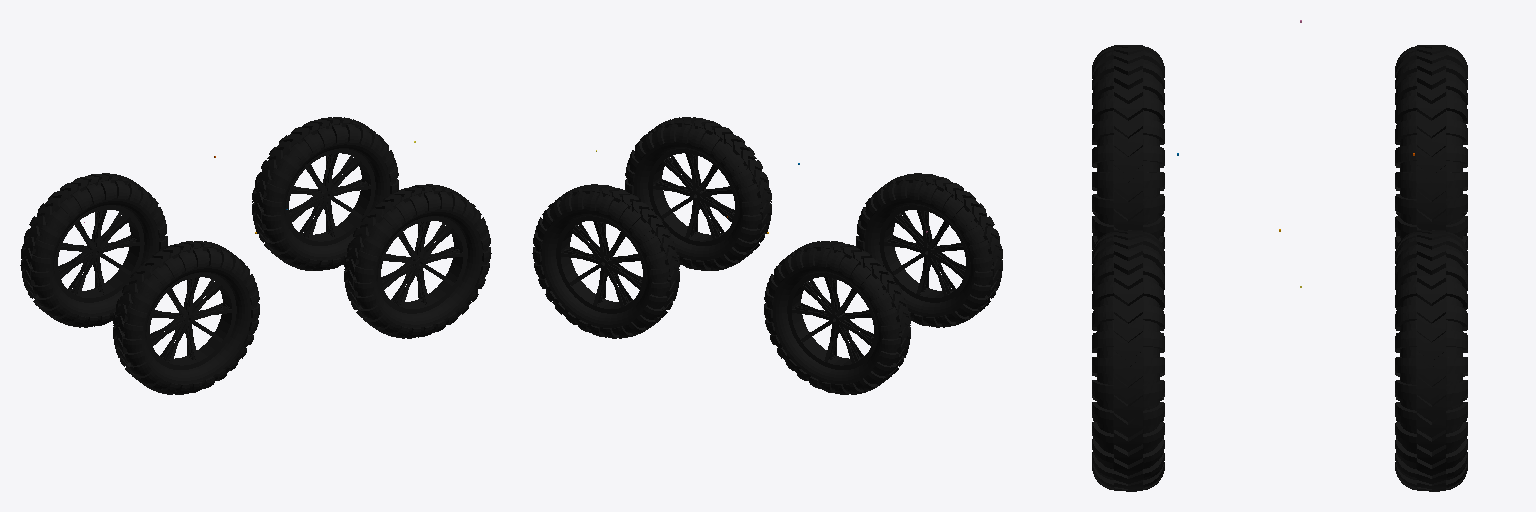
The robot description file, URDF, robot "hamer":
<?xml version="1.0" ?>
<robot name="hamer">

<!-- Base Footprint Link -->
  <link name="base_footprint">
	<visual>
	  <origin xyz="0 0 0" rpy="0 0 0" />
	  <geometry>
		<box size="0.001 0.001 0.001"/>
	  </geometry>
	</visual>
  </link>

  <joint name="base_footprint_joint" type="fixed">
	<origin xyz="0 0 0.010" rpy="0 0 0"/>     	
	<parent link="base_footprint"/>
     	<child link="base_link"/>	
   </joint> 


  <link name="base_link">
    <inertial>
      <mass value="21.5"/>
      <origin xyz=" -0.05 0 0.0"/>
      <inertia ixx="0.26704" ixy="0.0" ixz="0.0" iyy="0.3826" iyz="0.0" izz="0.26704"/>
    </inertial>
    <visual>
      <origin rpy="1.570796 0 0" xyz="0 0.06 0.01"/>
      <geometry name="hamer_geom">
        <mesh filename="package://hamer_description/meshes/bases/base_link.STL"/>
      </geometry>
      <material name="ChassisRed">
        <color rgba="0.851 0.0 0.0 1.0"/>
      </material>
    </visual>
    <collision>
      <origin rpy="1.570796 0 0" xyz="0 0.06 0.01"/>
      <geometry>
        <mesh filename="package://hamer_description/meshes/bases/base_link.STL"/>
      </geometry>
    </collision>
  </link>

  <!-- Front Axles + Wheels + Hubcaps -->
  <link name="Left_Front">
    <inertial>
      <mass value="1.2"/>

      <origin xyz="0 0 0"/>
      <inertia ixx="0.0111705890373" ixy="0" ixz="0" iyy="0.0136963443852" iyz="0" izz="0.0105875801487"/>
    </inertial>
    <visual>
      <origin rpy="0 0 0" xyz="0 -0.01 0"/>
      <geometry name="hamer_geom">
        <mesh filename="package://hamer_description/meshes/wheels/Right_Front.STL"/>
      </geometry>
      <material name="WheelBlack">
        <color rgba="0.117 0.117 0.117 1"/>
      </material>
    </visual>
    <collision>
      <origin rpy="-1.57079635 0 0" xyz="0 0 0"/>
      <geometry>
        <cylinder length="0.04" radius="0.06"/>
      </geometry>
    </collision>
  </link>
  <gazebo reference="Left_Front">
    <material value="Gazebo/Black"/>
  </gazebo>
  <joint name="Joint_Left_Front" type="continuous">
    <axis xyz="0 1 0"/>
    <anchor xyz="0 0 0"/>
    <limit effort="100" velocity="100"/>
    <joint_properties damping="0.7"/>
    <origin rpy="0 0 0" xyz="0.105 0.065 -0.03"/>
    <parent link="base_link"/>
    <child link="Left_Front"/>
  </joint>

  <link name="Left_Back">
    <inertial>
      <mass value="1.2"/>
      <origin xyz="0 0 0"/>
      <inertia ixx="0.0111705890373" ixy="0" ixz="0" iyy="0.0136963443852" iyz="0" izz="0.0105875801487"/>
    </inertial>
    <visual>
      <origin rpy="0 0 0" xyz="0 -0.01 0"/>
      <geometry name="hamer_geom">
        <mesh filename="package://hamer_description/meshes/wheels/Right_Front.STL"/>
      </geometry>
      <material name="WheelBlack"/>
    </visual>
    <collision>
      <origin rpy="-1.57079635 0 0" xyz="0 0 0"/>
      <geometry>

        <cylinder length="0.04" radius="0.06"/>
      </geometry>
    </collision>
  </link>
  <gazebo reference="Left_Back">
    <material value="Gazebo/Black"/>
  </gazebo>
  <joint name="Joint_Left_Back" type="continuous">
    <axis xyz="0 1 0"/>
    <anchor xyz="0 0 0"/>
    <limit effort="100" velocity="100"/>
    <joint_properties damping="0.7"/>
    <origin rpy="0 0 0" xyz="-0.105 0.065 -0.03"/>
    <parent link="base_link"/>
    <child link="Left_Back"/>
  </joint>

  <gazebo reference="Left_Back">
    <kp>1000000.0</kp>
    <kd>100.0</kd>
    <mu1>1.0</mu1>
    <mu2>1.0</mu2>
    <maxVel>1.0</maxVel>
    <minDepth>0.00</minDepth>
    <material value="Gazebo/Black"/>
  </gazebo>
  <gazebo reference="Left_Front">
    <kp>1000000.0</kp>
    <kd>100.0</kd>
    <mu1>1.0</mu1>
    <mu2>1.0</mu2>
    <maxVel>1.0</maxVel>
    <minDepth>0.00</minDepth>
    <material value="Gazebo/Black"/>
  </gazebo>

  <!-- Front Axles + Wheels + Hubcaps -->
  <link name="Right_Front">
    <inertial>
      <mass value="1.2"/>
      <origin xyz="0 0 0"/>
      <inertia ixx="0.0111705890373" ixy="0" ixz="0" iyy="0.0136963443852" iyz="0" izz="0.0105875801487"/>
    </inertial>
    <visual>
      <origin rpy="0 0 0" xyz="0 -0.025 0"/>
      <geometry name="hamer_geom">
        <mesh filename="package://hamer_description/meshes/wheels/Right_Front.STL"/>
      </geometry>
      <material name="WheelBlack">
        <color rgba="0.117 0.117 0.117 1"/>
      </material>
    </visual>
    <collision>
      <origin rpy="-1.57079635 0 0" xyz="0 0 0"/>
      <geometry>
        <cylinder length="0.04" radius="0.06"/>
      </geometry>
    </collision>
  </link>
  <gazebo reference="Right_Front">
    <material value="Gazebo/Black"/>
  </gazebo>
  <joint name="Joint_Right_Front" type="continuous">
    <axis xyz="0 1 0"/>
    <anchor xyz="0 0 0"/>
    <limit effort="100" velocity="100"/>
    <joint_properties damping="0.7"/>
    <origin rpy="0 0 0" xyz="0.105 -0.065 -0.03"/>
    <parent link="base_link"/>
    <child link="Right_Front"/>
  </joint>

  <!-- Back Axles + Wheels + Hubcaps -->
  <link name="Right_Back">
    <inertial>
      <mass value="1.2"/>
      <origin xyz="0 0 0"/>
      <inertia ixx="0.0111705890373" ixy="0" ixz="0" iyy="0.0136963443852" iyz="0" izz="0.0105875801487"/>
    </inertial>
    <visual>
      <origin rpy="0 0 0" xyz="0 -0.025 0"/>
      <geometry name="hamer_geom">
        <mesh filename="package://hamer_description/meshes/wheels/Right_Front.STL"/>
      </geometry>
      <material name="WheelBlack"/>
    </visual>
    <collision>
      <origin rpy="-1.57079635 0 0" xyz="0 0 0"/>
      <geometry>
        <cylinder length="0.04" radius="0.06"/>
      </geometry>
    </collision>
  </link>
  <gazebo reference="Right_Back">
    <material value="Gazebo/Black"/>
  </gazebo>
  <joint name="Joint_Right_Back" type="continuous">
    <axis xyz="0 1 0"/>
    <anchor xyz="0 0 0"/>
    <limit effort="100" velocity="100"/>
    <joint_properties damping="0.7"/>
    <origin rpy="0 0 0" xyz="-0.105 -0.065 -0.03"/>
    <parent link="base_link"/>
    <child link="Right_Back"/>
  </joint>

  <gazebo reference="Right_Back">
    <kp>1000000.0</kp>
    <kd>100.0</kd>
    <mu1>1.0</mu1>
    <mu2>1.0</mu2>
    <maxVel>1.0</maxVel>
    <minDepth>0.00</minDepth>
    <material value="Gazebo/Black"/>
  </gazebo>
  <gazebo reference="Right_Front">
    <kp>1000000.0</kp>
    <kd>100.0</kd>
    <mu1>1.0</mu1>
    <mu2>1.0</mu2>
    <maxVel>1.0</maxVel>
    <minDepth>0.00</minDepth>
    <material value="Gazebo/Black"/>
  </gazebo>
  <gazebo>
    <plugin filename="libgazebo_ros_skid_steer_drive.so" name="skid_steer_drive_controller">
      <updateRate>10.0</updateRate>
      <robotNamespace>hamer</robotNamespace>
      <leftFrontJoint>Joint_Left_Front</leftFrontJoint>
      <rightFrontJoint>Joint_Right_Front</rightFrontJoint>
      <leftRearJoint>Joint_Left_Back</leftRearJoint>
      <rightRearJoint>Joint_Right_Back</rightRearJoint>
      <wheelSeparation>0.4</wheelSeparation>
      <wheelDiameter>0.215</wheelDiameter>
      <robotBaseFrame>base_footprint</robotBaseFrame>
      <MaxForce>5.0</MaxForce>
      <torque>200</torque>
      <commandTopic>cmd_vel</commandTopic>
      <odometryTopic>odom</odometryTopic>
      <odometryFrame>odom</odometryFrame>
      <broadcastTF>1</broadcastTF>
    </plugin>
  </gazebo>

<!-- IMU Link -->
  <joint name="imu_joint" type="fixed">
    <parent link="base_link"/>
    <child link="imu_link"/>
    <origin xyz="0.0 0 0.068" rpy="0 0 0"/>
  </joint>

  <link name="imu_link"/>

<!-- Hokuyo Lidar -->
  <link name="lidar_scan">
    <visual>
      <origin xyz="0 0 0.0" rpy="0 0 0"/>
      <geometry>
	<!-- This stl file used from Turtlebot3 Packages -->
        <mesh filename="package://hamer_description/meshes/sensors/lds.stl" scale="0.001 0.001 0.001"/>
      </geometry>
      <material name="dark"/>
    </visual>

    <collision>
      <origin xyz="0 0 0" rpy="0 0 0"/>
      <geometry>
        <cylinder length="0.0315" radius="0.055"/>
      </geometry>
    </collision>

    <inertial>
      <mass value="0.114" />
      <origin xyz="0 0 0" />
      <inertia ixx="0.001" ixy="0.0"   ixz="0.0"
               		   iyy="0.001" iyz="0.0"
               			       izz="0.001" />
    </inertial>
  </link>

  <joint name="Joint_Lidar" type="fixed">
    <parent link="base_link"/>
    <child link="lidar_scan"/>
    <origin xyz="-0.064 0.0 0.05" rpy="0 0 0"/>
  </joint>

<!-- Camera Links -->
  <link name="camera_link">
    <collision>
      <origin xyz="0 0 0" rpy="0 0 0"/>
      <geometry>
        <box size="0.015 0.031 0.027"/>
      </geometry>
    </collision>

    <visual>
      <origin xyz="0 0 0" rpy="1.57 0 1.57"/>
      <geometry>
	  <mesh filename="package://hamer_description/meshes/sensors/Intel_RealSense_Depth_Camera_D435.stl" scale="0.001 0.001 0.001"/> 
	<!--<box size="0.02 0.05 0.015"/> -->
      </geometry>
      <material name="red"/>
    </visual>
  </link>

  <joint name="Joint_Camera" type="fixed">
    <origin xyz="0.155 0.0 0.00" rpy="0 0 0"/>
    <parent link="base_link"/>
    <child link="camera_link"/>
  </joint>


  <joint name="Joint_Camera_RGB" type="fixed">
    <origin xyz="0.003 0.011 0.009" rpy="0 0 0"/>
    <parent link="camera_link"/>
    <child link="Frame_Camera_RGB"/>
  </joint>
  <link name="Frame_Camera_RGB"/>

  <joint name="Joint_Camera_RGB_Optic" type="fixed">
    <origin xyz="0 0 0" rpy="-1.57 0 -1.57"/>
    <parent link="Frame_Camera_RGB"/>
    <child link="Frame_Camera_RGB_Optic"/>
  </joint>
  <link name="Frame_Camera_RGB_Optic"/>

<!-- Ultrasonic Sonar Sensors Links -->

  <link name="sonar_front">
    <collision>
	<origin xyz="0 0 0" rpy="0 0 0"/>
	<geometry>
	   <box size="0.001 0.001 0.001"/>
	</geometry>
    </collision>
    <visual>
	<origin xyz="0 0 0" rpy="0 0 0"/>
	<geometry>
	   <box size="0.001 0.001 0.001"/>
	</geometry>
    </visual> 
    <inertial>
	<mass value="1e-5" />
	<origin xyz="0 0 0" rpy="0 0 0"/>
	<inertia ixx="1e-6" ixy="0"    ixz="0" 
		 	    iyy="1e-6" iyz="0" 
				       izz="1e-6" />
    </inertial>
   </link>

   <joint name="Joint_sonar_front" type="fixed">
	<axis xyz="0 0 0" />
	<origin xyz="0.15 0.01 0.03" rpy="0 0 0"/>
	<parent link="base_link"/>
	<child link="sonar_front"/>
   </joint>

  <link name="sonar_left">
    <collision>
	<origin xyz="0 0 0" rpy="0 0 0"/>
	<geometry>
	   <box size="0.001 0.001 0.001"/>
	</geometry>
    </collision>
    <visual>
	<origin xyz="0 0 0" rpy="0 0 0"/>
	<geometry>
	   <box size="0.001 0.001 0.001"/>
	</geometry>
    </visual> 
    <inertial>
	<mass value="1e-5" />
	<origin xyz="0 0 0" rpy="0 0 0"/>
	<inertia ixx="1e-6" ixy="0"    ixz="0" 
		 	    iyy="1e-6" iyz="0" 
				       izz="1e-6" />
    </inertial>
   </link>

   <joint name="Joint_sonar_left" type="fixed">
	<axis xyz="0 0 0" />
	<origin xyz="0 -0.049 0.03" rpy="0 0 -1.57"/>
	<parent link="base_link"/>
	<child link="sonar_left"/>
   </joint>

  <link name="sonar_right">
    <collision>
	<origin xyz="0 0 0" rpy="0 0 0"/>
	<geometry>
	   <box size="0.001 0.001 0.001"/>
	</geometry>
    </collision>
    <visual>
	<origin xyz="0 0 0" rpy="0 0 0"/>
	<geometry>
	   <box size="0.001 0.001 0.001"/>
	</geometry>
    </visual> 
    <inertial>
	<mass value="1e-5" />
	<origin xyz="0 0 0" rpy="0 0 0"/>
	<inertia ixx="1e-6" ixy="0"    ixz="0" 
		 	    iyy="1e-6" iyz="0" 
				       izz="1e-6" />
    </inertial>
   </link>

   <joint name="Joint_sonar_right" type="fixed">
	<axis xyz="0 0 0" />
	<origin xyz="0 0.064 0.03" rpy="0 0 1.57"/>
	<parent link="base_link"/>
	<child link="sonar_right"/>
   </joint>

  <link name="sonar_back">
    <collision>
	<origin xyz="0 0 0" rpy="0 0 0"/>
	<geometry>
	   <box size="0.001 0.001 0.001"/>
	</geometry>
    </collision>
    <visual>
	<origin xyz="0 0 0" rpy="0 0 0"/>
	<geometry>
	   <box size="0.001 0.001 0.001"/>
	</geometry>
    </visual> 
    <inertial>
	<mass value="1e-5" />
	<origin xyz="0 0 0" rpy="0 0 0"/>
	<inertia ixx="1e-6" ixy="0"    ixz="0" 
		 	    iyy="1e-6" iyz="0" 
				       izz="1e-6" />
    </inertial>
   </link>

   <joint name="Joint_sonar_back" type="fixed">
	<axis xyz="0 0 0" />
	<origin xyz="-0.15 0.01 0.03" rpy="0 0 3.14"/>
	<parent link="base_link"/>
	<child link="sonar_back"/>
   </joint> 

<!-- Gazebo Plugins -->   	
  <gazebo reference="base_link">
    <material>Gazebo/Blue</material>
  </gazebo>

  <gazebo reference="imu_link">
    <sensor type="imu" name="imu">
      <always_on>true</always_on>
      <visualize>true</visualize>
    </sensor>
    <material>Gazebo/Grey</material>
  </gazebo>


<!-- IMU Plugin -->
  <gazebo>
    <plugin name="imu_plugin" filename="libgazebo_ros_imu.so">
      <alwaysOn>true</alwaysOn>
      <bodyName>imu_link</bodyName>
      <frameName>imu_link</frameName>
      <topicName>imu</topicName>
      <serviceName>imu_service</serviceName>
      <gaussianNoise>0.0</gaussianNoise>
      <updateRate>200</updateRate>
      <imu>
        <noise>
          <type>gaussian</type>
          <rate>
            <mean>0.0</mean>
            <stddev>2e-4</stddev>
            <bias_mean>0.0000075</bias_mean>
            <bias_stddev>0.0000008</bias_stddev>
          </rate>
          <accel>
            <mean>0.0</mean>
            <stddev>1.7e-2</stddev>
            <bias_mean>0.1</bias_mean>
            <bias_stddev>0.001</bias_stddev>
          </accel>
        </noise>
      </imu>
    </plugin>
  </gazebo>

<!-- Laser Scan Plugin -->
  <gazebo reference="lidar_scan">
    <material>Gazebo/FlatBlack</material>
    <sensor type="ray" name="hokuyo_laser_sensor">
      <pose>0 0 0 0 0 0</pose>
      <visualize>false</visualize>
      <update_rate>5</update_rate>
      <ray>
        <scan>
          <horizontal>
            <samples>360</samples>
            <resolution>1</resolution>
            <min_angle>0.0</min_angle>
            <max_angle>6.28319</max_angle>
          </horizontal>
        </scan>
        <range>
          <min>0.120</min>
          <max>3.5</max>
          <resolution>0.015</resolution>
        </range>
        <noise>
          <type>gaussian</type>
          <mean>0.0</mean>
          <stddev>0.01</stddev>
        </noise>
      </ray>
      <plugin name="gazebo_ros_head_hokuyo_controller" filename="libgazebo_ros_laser.so">
        <topicName>scan</topicName>
        <frameName>lidar_scan</frameName>
      </plugin>
    </sensor>
  </gazebo>

<!-- Camera Plugin -->
  <gazebo reference="camera_link">
    <material>Gazebo/FlatBlack</material>
    <sensor type="camera" name="Realsense_Camera">
      <always_on>true</always_on>
      <visualize>false</visualize>
	<camera>
	   <horizontal_fov>1.3962634</horizontal_fov>
	   <image>
		<width>800</width>
		<height>800</height>
		<format>R8G8B8</format>
	   </image>
	   <clip>
		<near>0.02</near>
		<far>300</far>
	   </clip>
	   <noise>
		<type>gaussian</type>
		<!-- Noise is sampled independently per pixel on each frame.
		       That pixel's noise value is added to each of its color
		       channels, which at that point lie in the range [0,1]. -->
		<mean>0.0</mean>
		<stddev>0.007</stddev>
	   </noise>
      </camera>
      <plugin name="camera_controller" filename="libgazebo_ros_camera.so">
        <alwaysOn>true</alwaysOn>
        <updateRate>30.0</updateRate>
        <cameraName>Realsense_Camera</cameraName>
        <frameName>Frame_Camera_RGB_Optic</frameName>
        <imageTopicName>RGB/image_raw</imageTopicName>
        <cameraInfoTopicName>RGB/camera_info</cameraInfoTopicName>
        <hackBaseline>0.07</hackBaseline>
        <distortionK1>0.0</distortionK1>
        <distortionK2>0.0</distortionK2>
        <distortionK3>0.0</distortionK3>
        <distortionT1>0.0</distortionT1>
        <distortionT2>0.0</distortionT2>
      </plugin>
    </sensor>
  </gazebo>

<!-- Ultrasonic Sonar Sensors Gazebo Ref. -->

	<!-- Sonar Back -->
	<gazebo reference="sonar_back">
		<material>Gazebo/Green</material>
		<sensor type="ray" name="sonar_back">
		  <pose>0 0 0 0 0 0</pose>
		  <update_rate>5</update_rate>
		  <ray>
		    <scan>
		      <horizontal>
		        <samples>5</samples>
		        <resolution>1.0</resolution>
		        <min_angle>-0.03</min_angle>
		        <max_angle>0.03</max_angle>
		      </horizontal>
		      <vertical>
		        <samples>5</samples>
		        <resolution>1</resolution>
		        <min_angle>-0.03</min_angle>
		        <max_angle>0.03</max_angle>
		      </vertical>
		    </scan>
		    <range>
		      <min>0.01</min>
		      <max>0.9</max>
		      <resolution>0.01</resolution>
		    </range>
		  </ray>
		  <plugin filename="libgazebo_ros_range.so" name="gazebo_ros_range">
		    <gaussianNoise>0.005</gaussianNoise>
		    <alwaysOn>true</alwaysOn>
		    <updateRate>5</updateRate>
		    <topicName>sonar_back</topicName>
		    <frameName>sonar_back</frameName>
		    <fov>0.7</fov>
		    <radiation>ultrasound</radiation>
		  </plugin>
		</sensor>
	</gazebo> 
	
	
	<gazebo reference="sonar_left">
		<material>Gazebo/Green</material>
		<sensor type="ray" name="sonar_left">
		  <pose>0 0 0 0 0 0</pose>
		  <update_rate>5</update_rate>
		  <ray>
		    <scan>
		      <horizontal>
		        <samples>5</samples>
		        <resolution>1.0</resolution>
		        <min_angle>-0.2</min_angle>
		        <max_angle>0.2</max_angle>
		      </horizontal>
		      <vertical>
		        <samples>5</samples>
		        <resolution>1</resolution>
		        <min_angle>-0.03</min_angle>
		        <max_angle>0.03</max_angle>
		      </vertical>
		    </scan>
		    <range>
		      <min>0.01</min>
		      <max>0.9</max>
		      <resolution>0.01</resolution>
		    </range>
		  </ray>
		  <plugin filename="libgazebo_ros_range.so" name="gazebo_ros_range">
		    <gaussianNoise>0.005</gaussianNoise>
		    <alwaysOn>true</alwaysOn>
		    <updateRate>5</updateRate>
		    <topicName>sonar_left</topicName>
		    <frameName>sonar_left</frameName>
		    <fov>0.7</fov>
		    <radiation>ultrasound</radiation>
		  </plugin>
		</sensor>
	</gazebo>

	<gazebo reference="sonar_right">
		<material>Gazebo/Green</material>
		<sensor type="ray" name="sonar_right">
		  <pose>0 0 0 0 0 0</pose>
		  <update_rate>5</update_rate>
		  <ray>
		    <scan>
		      <horizontal>
		        <samples>5</samples>
		        <resolution>1.0</resolution>
		        <min_angle>-0.03</min_angle>
		        <max_angle>0.03</max_angle>
		      </horizontal>
		      <vertical>
		        <samples>5</samples>
		        <resolution>1</resolution>
		        <min_angle>-0.03</min_angle>
		        <max_angle>0.03</max_angle>
		      </vertical>
		    </scan>
		    <range>
		      <min>0.01</min>
		      <max>0.9</max>
		      <resolution>0.01</resolution>
		    </range>
		  </ray>
		  <plugin filename="libgazebo_ros_range.so" name="gazebo_ros_range">
		    <gaussianNoise>0.005</gaussianNoise>
		    <alwaysOn>true</alwaysOn>
		    <updateRate>5</updateRate>
		    <topicName>sonar_right</topicName>
		    <frameName>sonar_right</frameName>
		    <fov>0.7</fov>
		    <radiation>ultrasound</radiation>
		  </plugin>
		</sensor>
	</gazebo>
</robot>

--- What the picture shows (computed from the rendered views, not written in the file) ---
The picture shows the robot from 3 angles, left to right: view 1: azimuth 30°, elevation 25°; view 2: azimuth 150°, elevation 25°; view 3: azimuth 270°, elevation 25°; orthographic projection.
Robot: hamer — 15 links, 14 joints (4 continuous, 10 fixed); root link base_footprint; default pose: every joint at zero.
Visible links, largest first — view 1: Right_Back, Right_Front, Left_Front, Left_Back; view 2: Left_Back, Left_Front, Right_Front, Right_Back; view 3: Left_Front, Right_Front, Right_Back, Left_Back.
Link boxes in pixels (bbox=[...]): Right_Back: bbox=[113, 241, 259, 394]; Right_Front: bbox=[344, 184, 491, 338]; Left_Front: bbox=[252, 117, 398, 270]; Left_Back: bbox=[20, 173, 167, 327]; Left_Back: bbox=[764, 241, 910, 394]; Left_Front: bbox=[532, 184, 679, 338]; Right_Front: bbox=[625, 117, 771, 270]; Right_Back: bbox=[856, 173, 1002, 327]; Left_Front: bbox=[1395, 230, 1467, 491]; Right_Front: bbox=[1092, 230, 1164, 491]; Right_Back: bbox=[1092, 45, 1164, 278]; Left_Back: bbox=[1395, 45, 1467, 278].
Bounding box of the posed robot: 0.3351 × 0.18 × 0.1251 m (x, y, z).
Meshes: 4 distinct files referenced, 4 mesh visuals loaded (1 binary STL); not drawn: 3 (reference not matched to a file when rendering).
